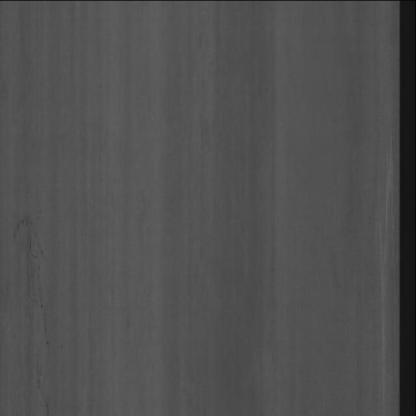water_spot: (12, 210, 53, 350)
